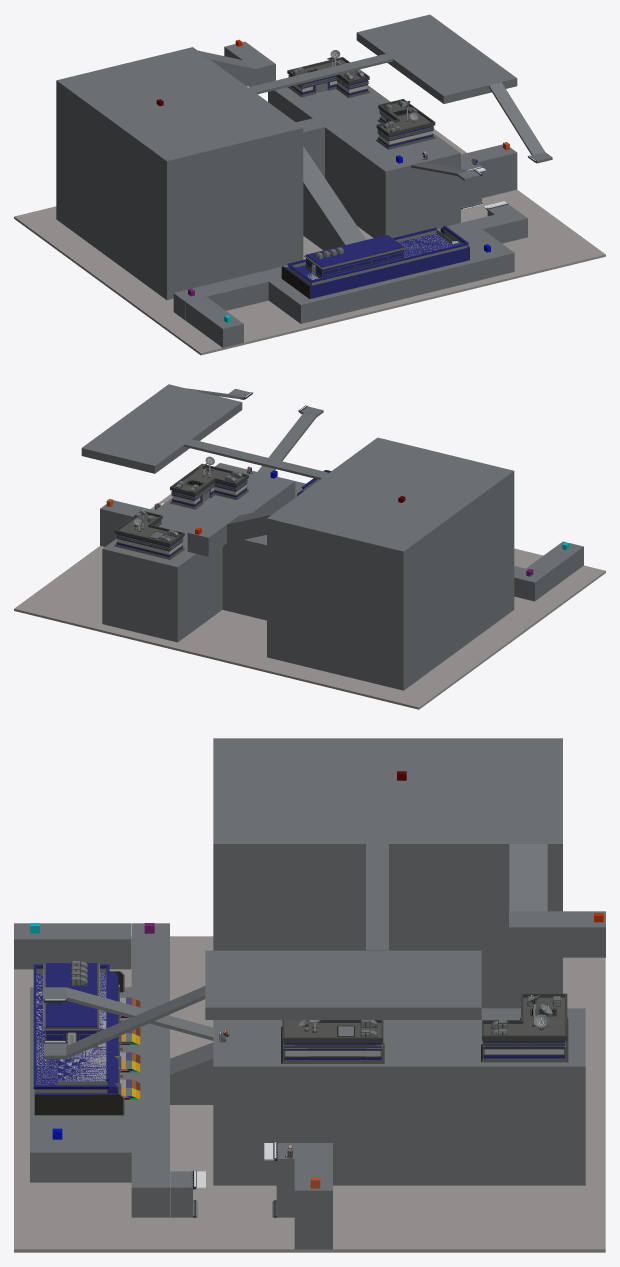
Rendered from room4.fbx.
3 views of the same model, one above another, from view 1: azimuth 30°, elevation 25°; view 2: azimuth 150°, elevation 25°; view 3: azimuth 270°, elevation 25° (orthographic). The views are drawn at different scales.
Visible parts, largest first — view 1: path.008, ground.008, garage mesh.003, garage.003, house 2.002, house 2.001; view 2: path.008, ground.008, house 2.002, house 2.001; view 3: path.008, ground.008, garage.003, garage mesh.003, house 2.001, house 2.002, items of interest.003.
Boxes of the visible parts, bbox=[...] form: path.008: bbox=[56, 14, 552, 347]; ground.008: bbox=[14, 129, 605, 355]; garage mesh.003: bbox=[285, 229, 469, 298]; garage.003: bbox=[281, 226, 469, 298]; house 2.002: bbox=[376, 99, 435, 149]; house 2.001: bbox=[287, 57, 370, 97]; path.008: bbox=[81, 384, 583, 690]; ground.008: bbox=[14, 494, 605, 709]; house 2.002: bbox=[169, 464, 248, 509]; house 2.001: bbox=[114, 511, 184, 559]; path.008: bbox=[14, 738, 605, 1249]; ground.008: bbox=[14, 936, 605, 1252]; garage.003: bbox=[33, 963, 124, 1115]; garage mesh.003: bbox=[34, 963, 140, 1099]; house 2.001: bbox=[481, 993, 568, 1062]; house 2.002: bbox=[281, 1020, 384, 1063]; items of interest.003: bbox=[30, 771, 603, 1188].
Size of the model in its own units: 39814 by 31820 by 13634.
